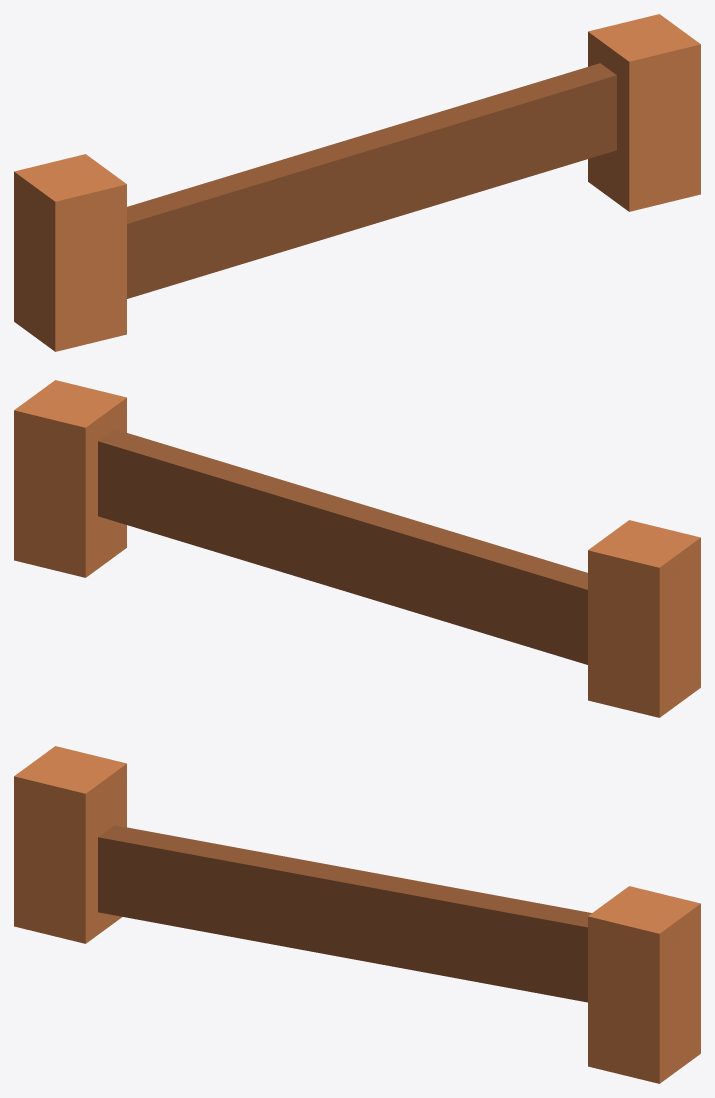
The model's file is fenceLowBroken.dae.
3 views of the same model, one above another, from view 1: azimuth 30°, elevation 25°; view 2: azimuth 150°, elevation 25°; view 3: azimuth 330°, elevation 25° (orthographic).
Visible parts, largest first — view 1: fenceLowBroken; view 2: fenceLowBroken; view 3: fenceLowBroken.
Part boxes in pixels (bbox=[...]): fenceLowBroken: bbox=[14, 14, 700, 351]; fenceLowBroken: bbox=[14, 380, 700, 717]; fenceLowBroken: bbox=[14, 746, 700, 1083].
Size of the model in its own units: 0.9 by 0.2 by 0.1.
